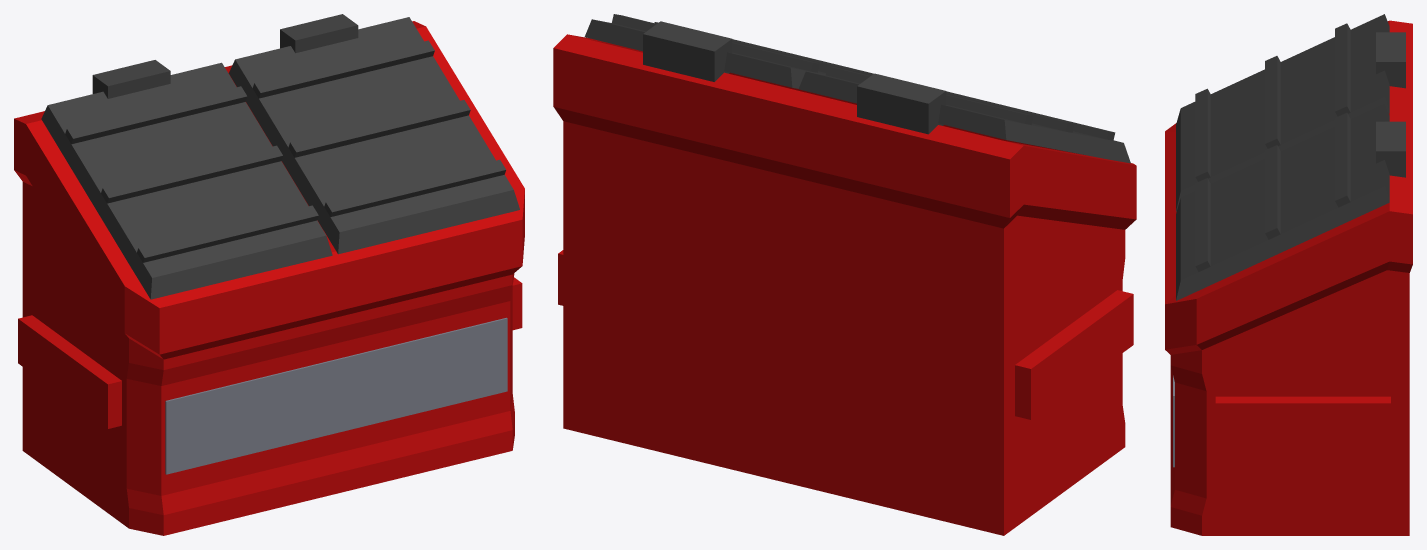
The model's file is Metal.glb.
The picture shows the model from 3 angles, left to right: view 1: azimuth 30°, elevation 25°; view 2: azimuth 150°, elevation 25°; view 3: azimuth 270°, elevation 25°; orthographic projection. The views are drawn at different scales.
Visible parts, largest first — view 1: TrashContainer.001; view 2: TrashContainer.001; view 3: TrashContainer.001.
Boxes of the visible parts, bbox=[...] form: TrashContainer.001: bbox=[14, 14, 524, 535]; TrashContainer.001: bbox=[553, 14, 1136, 535]; TrashContainer.001: bbox=[1165, 14, 1412, 535].
Size of the model in its own units: 2.44 by 2.03 by 1.3.
